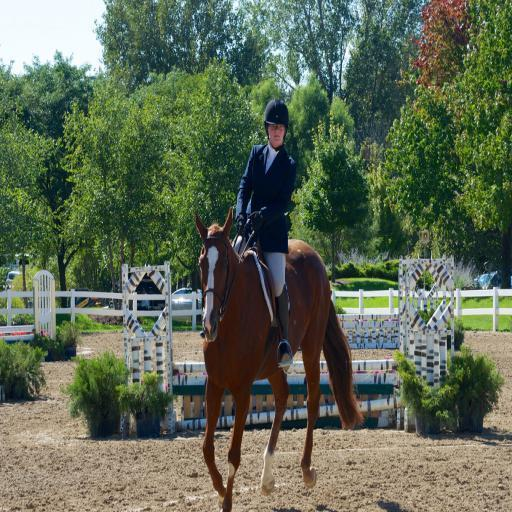horse: (194, 204, 366, 512)
